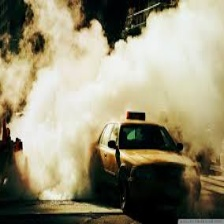smoke: (5, 4, 88, 195), (92, 12, 223, 126)
